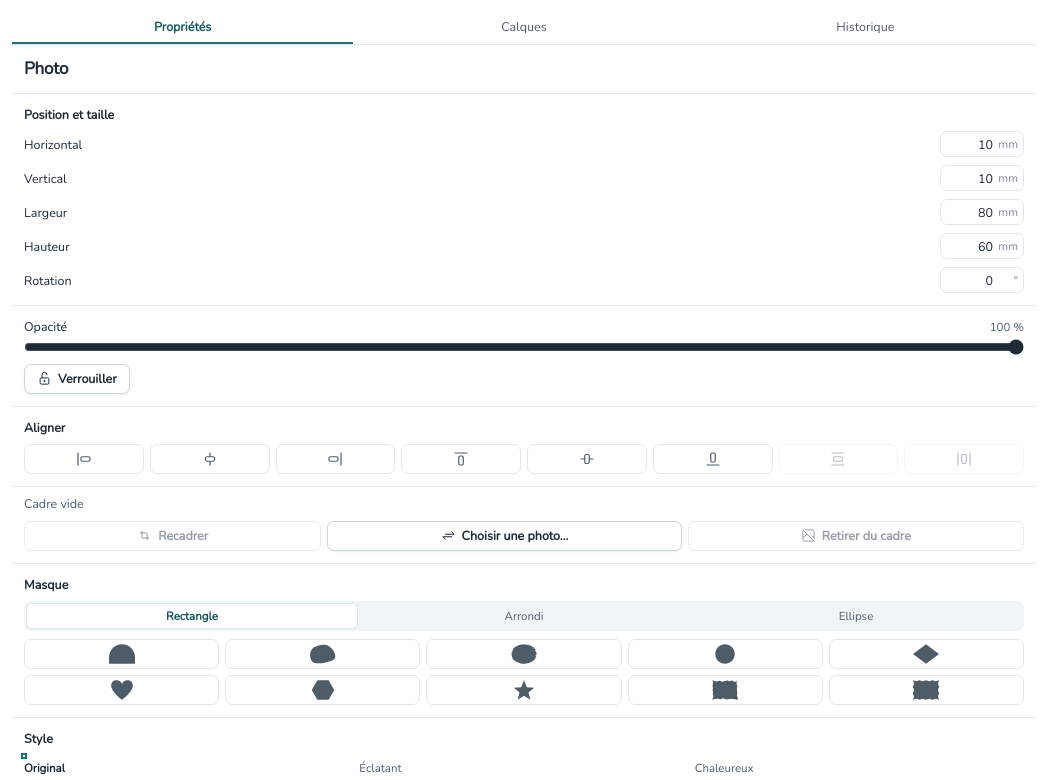
Test: Inspector › common section and tabs › aligns one element to the page, and offers selection or page for several
Click the button named "Aligner à gauche" at [84, 459], box [24, 444, 144, 474]
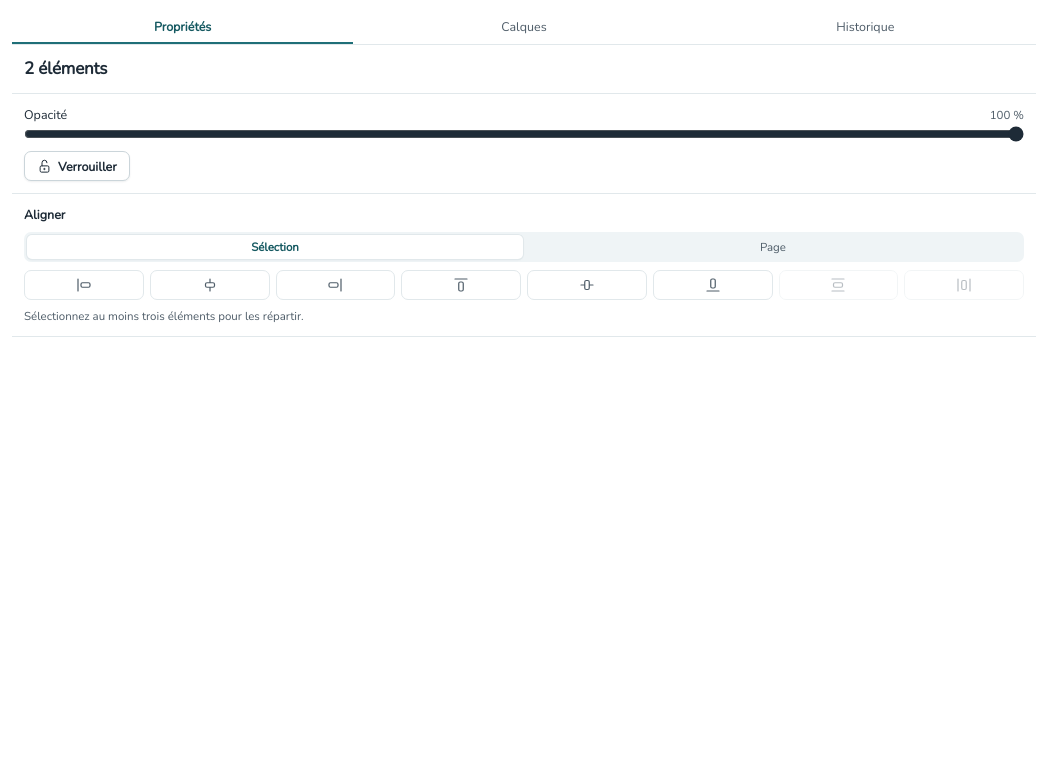
Expected: the element named "Aligner sur" is shown, [24, 232, 1024, 262]
Expected: the button labelled "x" is gone
Expected: the button named "Répartir horizontalement" is disabled, [778, 270, 898, 300]
